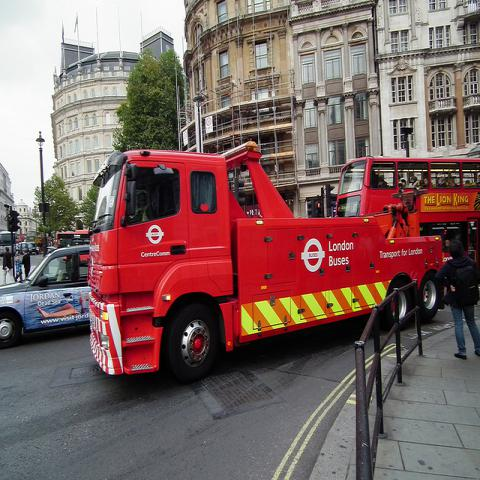bus: (334, 154, 480, 226), (55, 228, 92, 250)
car: (0, 244, 91, 348), (17, 242, 40, 255)
truck: (88, 139, 452, 386)
